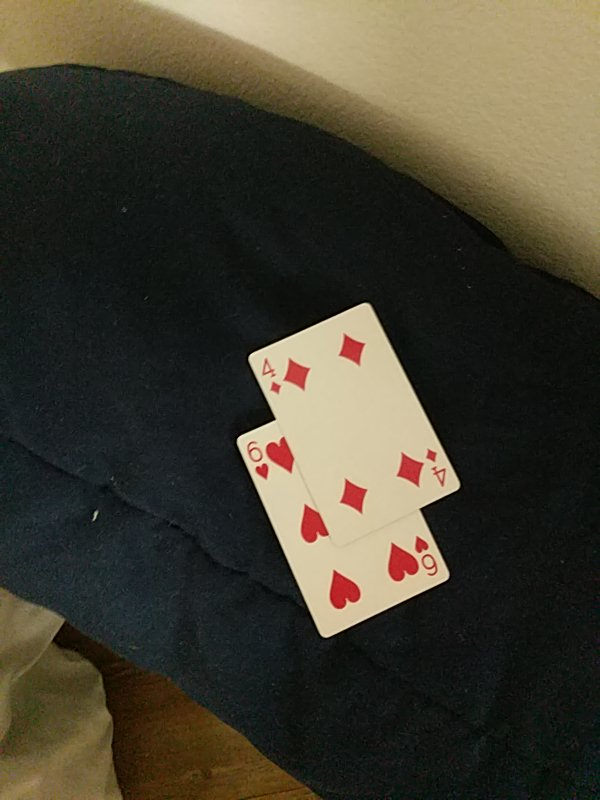Diamonds: (247, 302, 462, 543)
Hearts: (239, 419, 451, 638)
